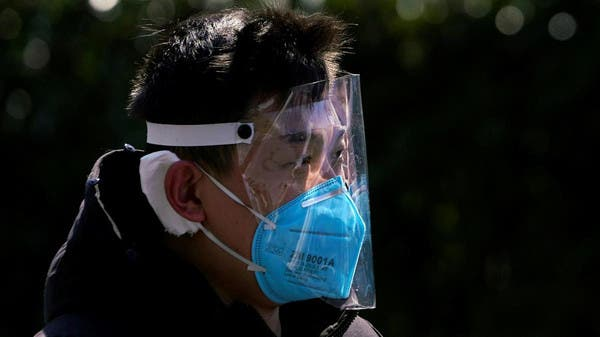n95: (241, 172, 369, 307)
